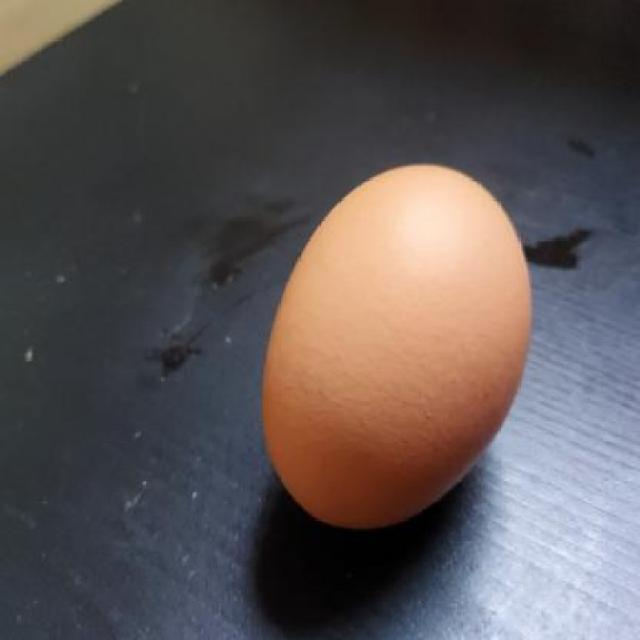biodegradable: (262, 163, 533, 529)
